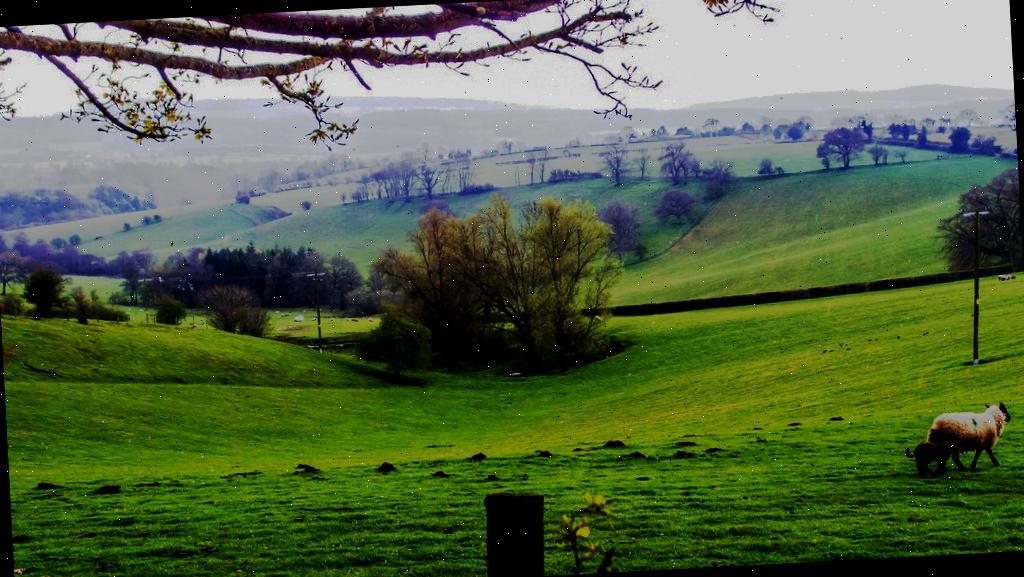Sheep: (930, 403, 1010, 471)
